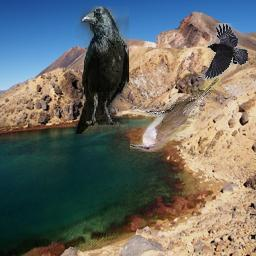Crow: (75, 6, 129, 134), (196, 23, 248, 79)
Cuckoo: (130, 76, 220, 152)
